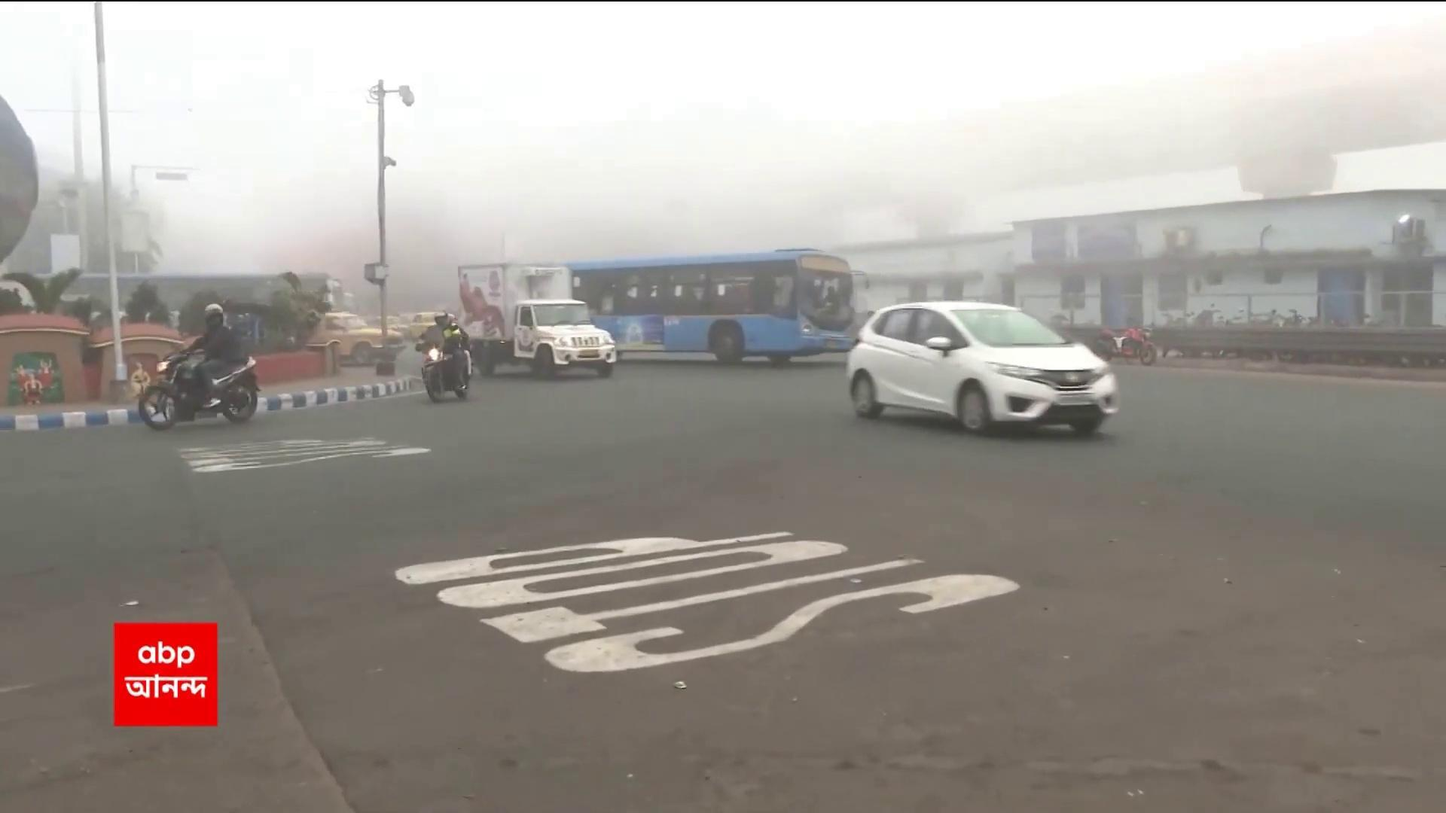Bike: (134, 298, 266, 435), (418, 313, 477, 399)
Bus: (565, 251, 866, 366)
Car: (845, 296, 1123, 447)
Truck: (446, 257, 619, 373)
